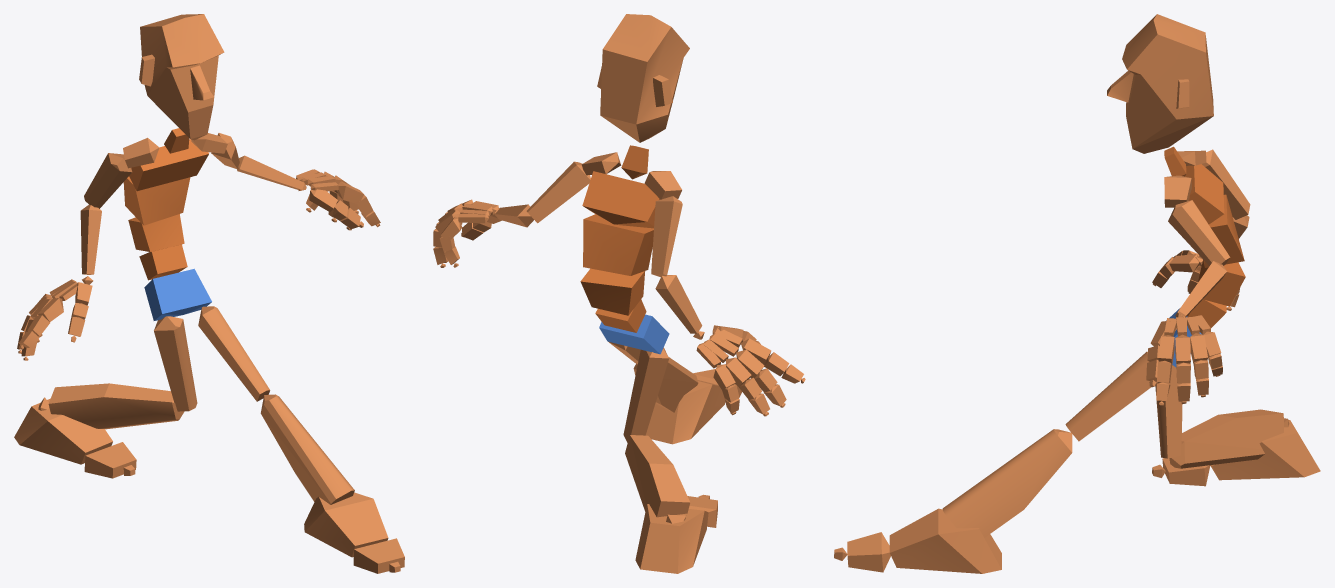
3 renders of one model, left to right at view 1: azimuth 30°, elevation 25°; view 2: azimuth 150°, elevation 25°; view 3: azimuth 270°, elevation 25°, orthographic. The views are drawn at different scales.
Parts seen in each view (by area): view 1: BOPED_Head, BOPED_R_leg, BOPED_L_leg, BOPED_R_foot01, BOPED_R_foot, BOPED_R_legup, Bone01, BOPED_L_legup, Bone04, Bone05, Bone03, BOPED_R_arm_upper (+8 smaller); view 2: BOPED_Head, BOPED_R_foot, Bone04, BOPED_R_leg, Bone05, BOPED_R_foot01, BOPED_R_legup, Bone03, BOPED_R_arm_upper, BOPED_L_arm_upper, Bone01, BOPED_L_leg (+7 smaller); view 3: BOPED_Head, BOPED_L_leg, BOPED_R_foot01, BOPED_R_leg, BOPED_R_foot, BOPED_L_legup, BOPED_L_arm_upper, BOPED_R_legup, Bone05, BOPED_R_foot_toe04, BOPED_R_arm_upper, Bone04 (+5 smaller).
Part boxes in pixels (<box>): BOPED_Head: <box>139,14,224,140</box>; BOPED_R_leg: <box>48,383,184,429</box>; BOPED_L_leg: <box>260,394,354,504</box>; BOPED_R_foot01: <box>304,492,388,557</box>; BOPED_R_foot: <box>14,398,112,464</box>; BOPED_R_legup: <box>154,316,197,411</box>; Bone01: <box>144,268,211,320</box>; BOPED_L_legup: <box>198,306,270,401</box>; Bone04: <box>123,176,190,225</box>; Bone05: <box>129,139,208,191</box>; Bone03: <box>128,214,184,251</box>; BOPED_R_arm_upper: <box>84,153,132,208</box>; BOPED_Head: <box>597,14,689,142</box>; BOPED_R_foot: <box>635,504,708,573</box>; Bone04: <box>583,214,653,275</box>; BOPED_R_leg: <box>625,435,690,517</box>; Bone05: <box>582,171,660,228</box>; BOPED_R_foot01: <box>645,380,725,444</box>; BOPED_R_legup: <box>623,347,668,442</box>; Bone03: <box>580,268,645,315</box>; BOPED_R_arm_upper: <box>651,196,682,277</box>; BOPED_L_arm_upper: <box>526,161,590,223</box>; Bone01: <box>599,314,669,354</box>; BOPED_L_leg: <box>633,357,698,412</box>; BOPED_Head: <box>1107,14,1213,153</box>; BOPED_L_leg: <box>942,429,1072,537</box>; BOPED_R_foot01: <box>889,508,1001,573</box>; BOPED_R_leg: <box>1169,409,1283,468</box>; BOPED_R_foot: <box>1210,420,1320,480</box>; BOPED_L_legup: <box>1065,351,1157,441</box>; BOPED_L_arm_upper: <box>1168,200,1230,265</box>; BOPED_R_legup: <box>1155,365,1182,458</box>; Bone05: <box>1185,164,1224,224</box>; BOPED_R_foot_toe04: <box>847,532,890,572</box>; BOPED_R_arm_upper: <box>1202,149,1250,219</box>; Bone04: <box>1203,194,1244,267</box>.
Size of the model in its own units: 130 by 164 by 143.
